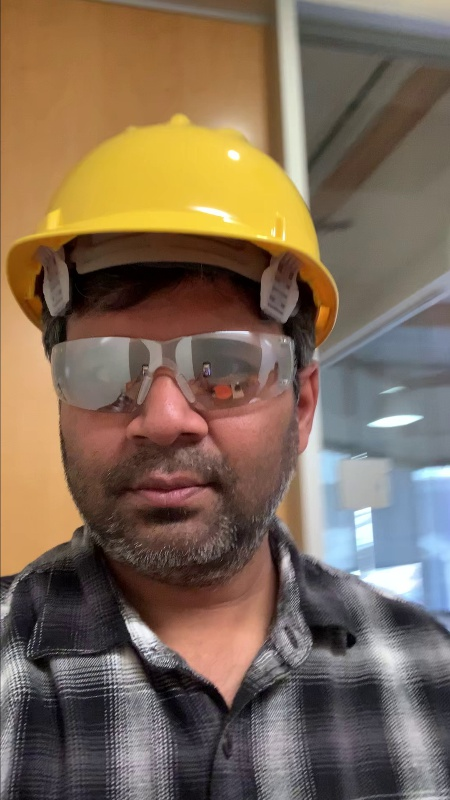glasses: (41, 327, 324, 412)
helmet: (36, 106, 322, 245)
